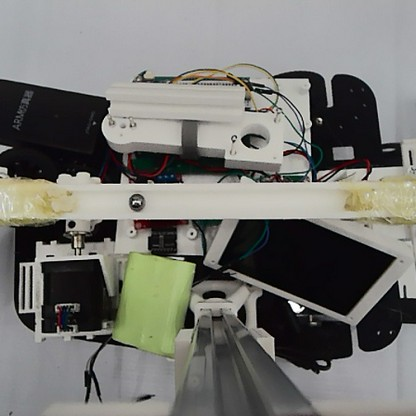ironball: (125, 192, 146, 212)
